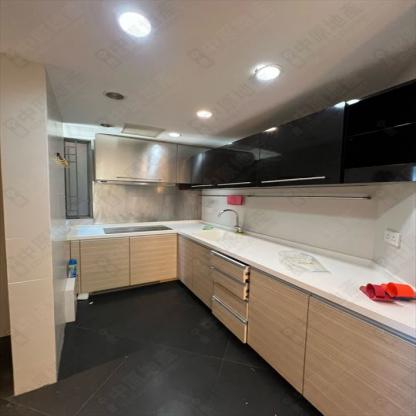Cupboard: (70, 232, 415, 414), (93, 77, 415, 188)
Faucet: (218, 207, 246, 230)
